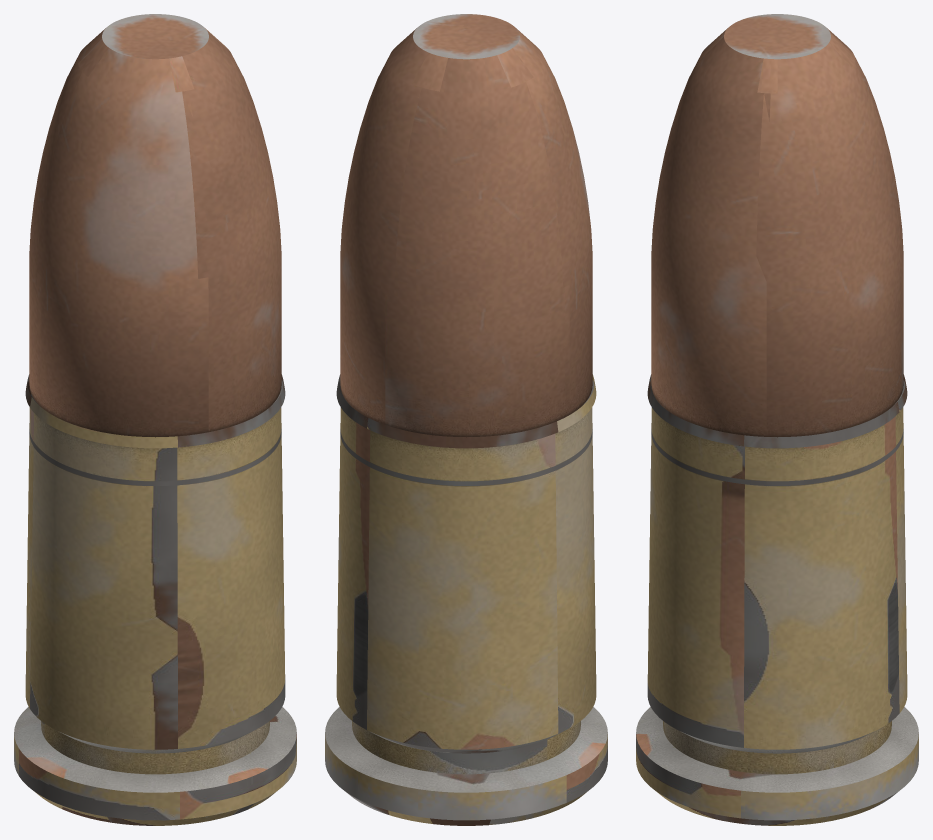
File: round_pistol.glb
The picture shows the model from 3 angles, left to right: view 1: azimuth 30°, elevation 25°; view 2: azimuth 150°, elevation 25°; view 3: azimuth 270°, elevation 25°; orthographic projection.
Visible parts, largest first — view 1: casing, bullet; view 2: casing, bullet; view 3: casing, bullet.
Boxes of the visible parts, <box> form: casing: <box>14,374,296,825</box>; bullet: <box>29,14,281,485</box>; casing: <box>325,374,607,825</box>; bullet: <box>340,14,592,485</box>; casing: <box>636,374,918,825</box>; bullet: <box>651,14,903,485</box>.
Size of the model in its own units: 0.0074 by 0.0212 by 0.0074.
Materials: 1 (1 with a texture image).
